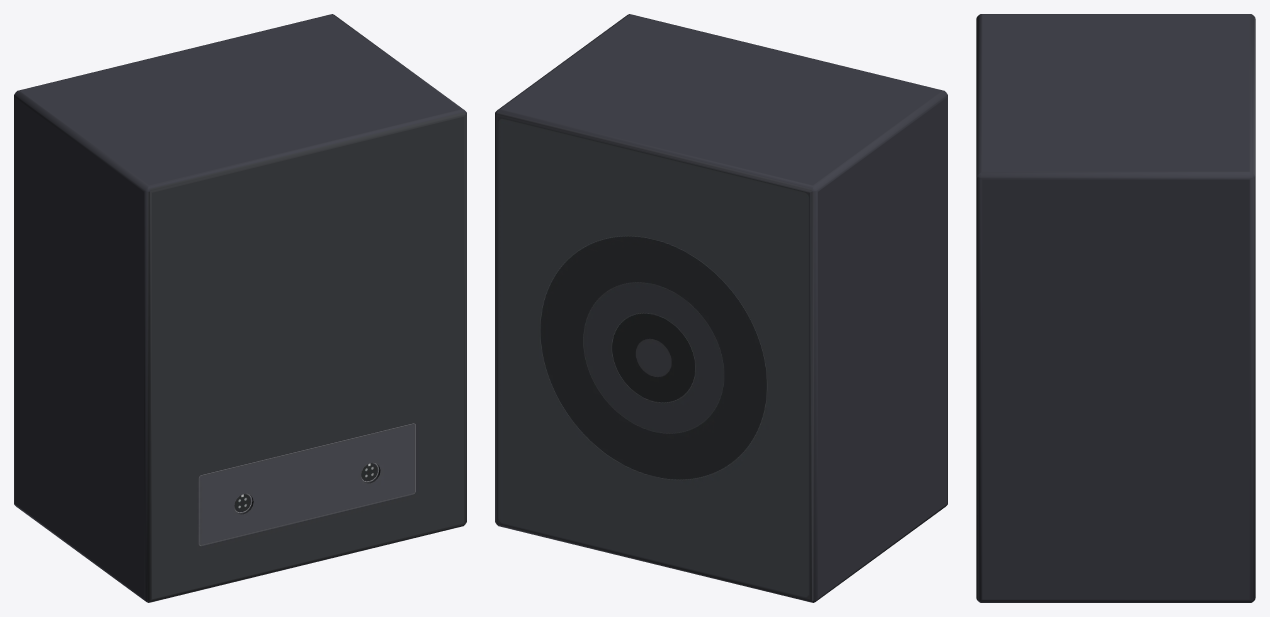
The model's file is nexo-p12.glb.
3 views of the same model, side by side, from view 1: azimuth 30°, elevation 25°; view 2: azimuth 150°, elevation 25°; view 3: azimuth 270°, elevation 25° (orthographic). The views are drawn at different scales.
Visible parts, largest first — view 1: nexo-p12-body; view 2: nexo-p12-body; view 3: nexo-p12-body.
Part boxes in pixels (x1,y1,x2,y2): nexo-p12-body: (14,14,466,602); nexo-p12-body: (495,14,947,602); nexo-p12-body: (976,14,1255,602).
Size of the model in its own units: 0.432 by 0.534 by 0.314.
Materials: 1 (1 with a texture image).
